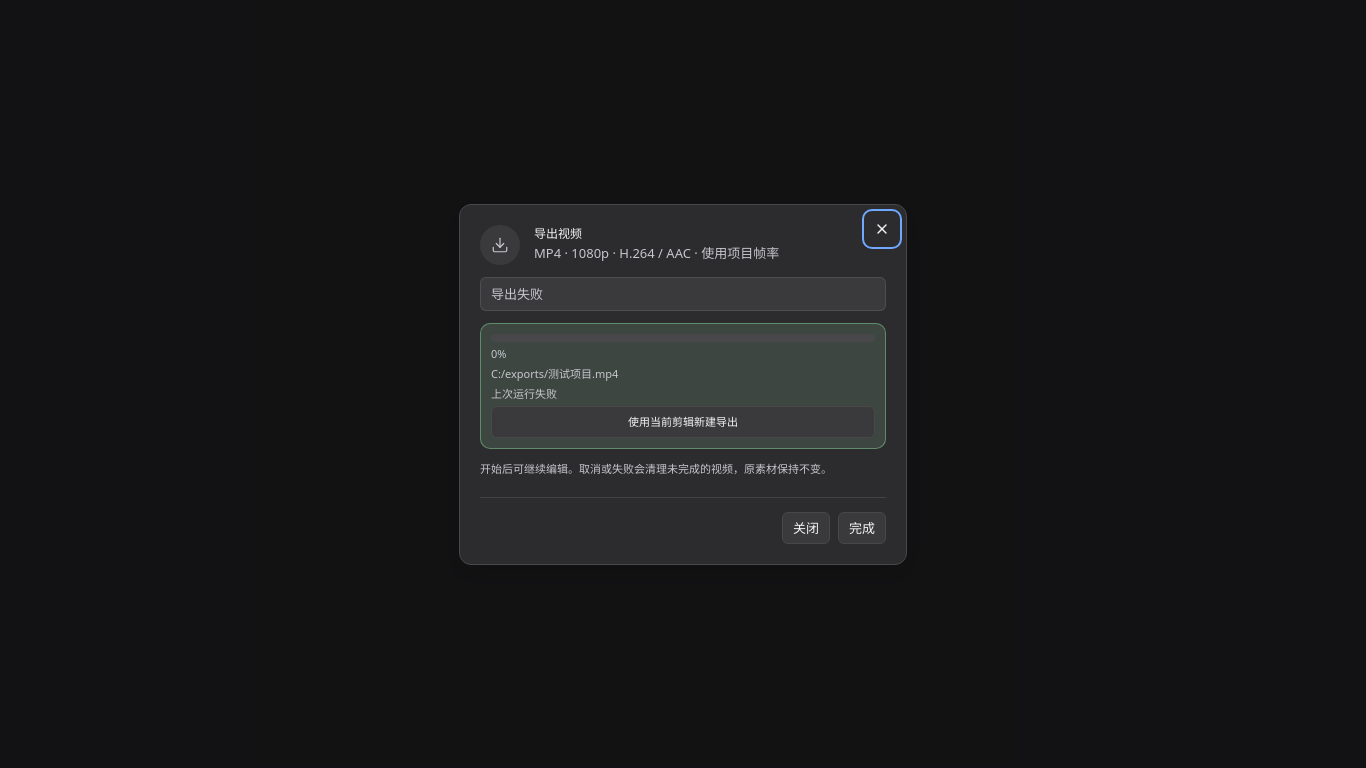
Test: export workflow › shows recovered history without offering an unavailable retry
The image size is (1366, 768).
Expected: the button "完成" is shown, x1=838 y1=512 x2=886 y2=544
Click the button "使用当前剪辑新建导出" at {"x": 683, "y": 422}, box x1=491 y1=406 x2=875 y2=438
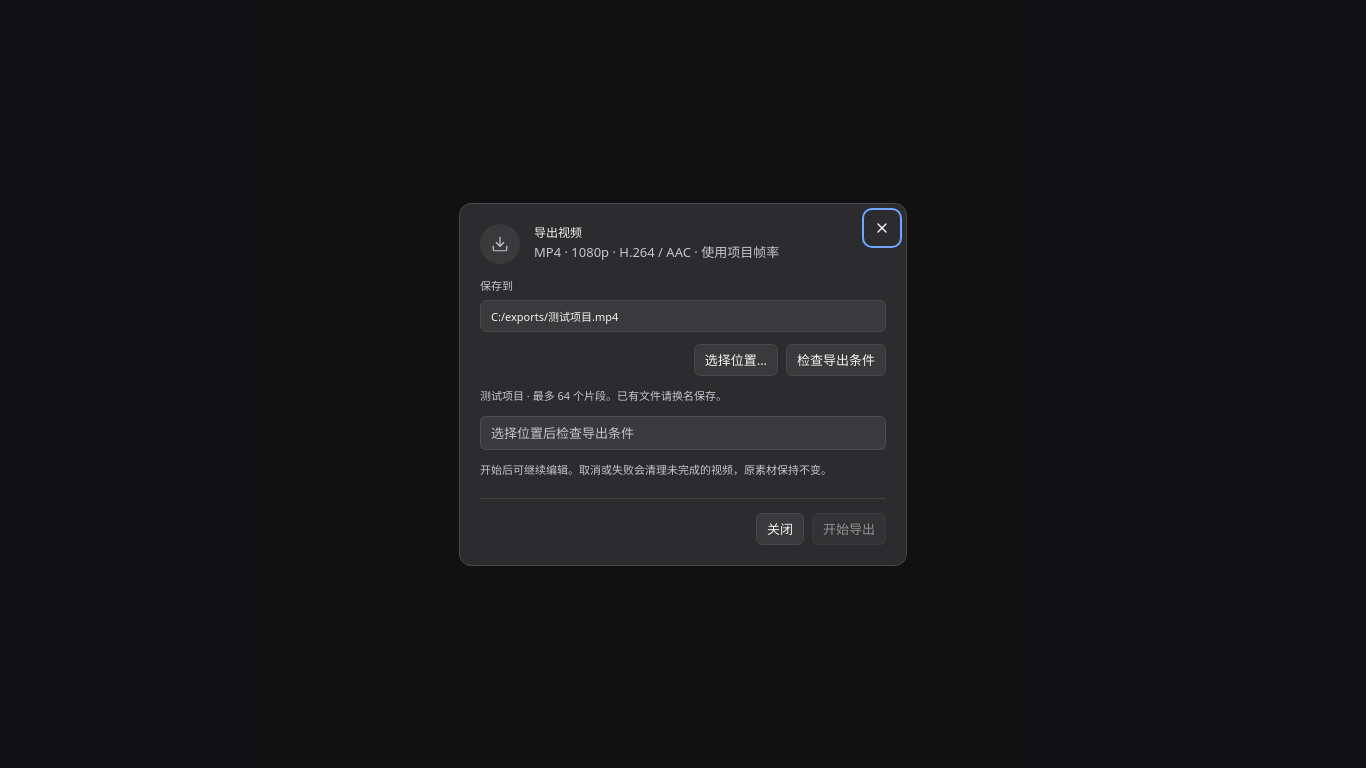
Expected: the button "检查导出条件" is shown, x1=786 y1=344 x2=886 y2=376
